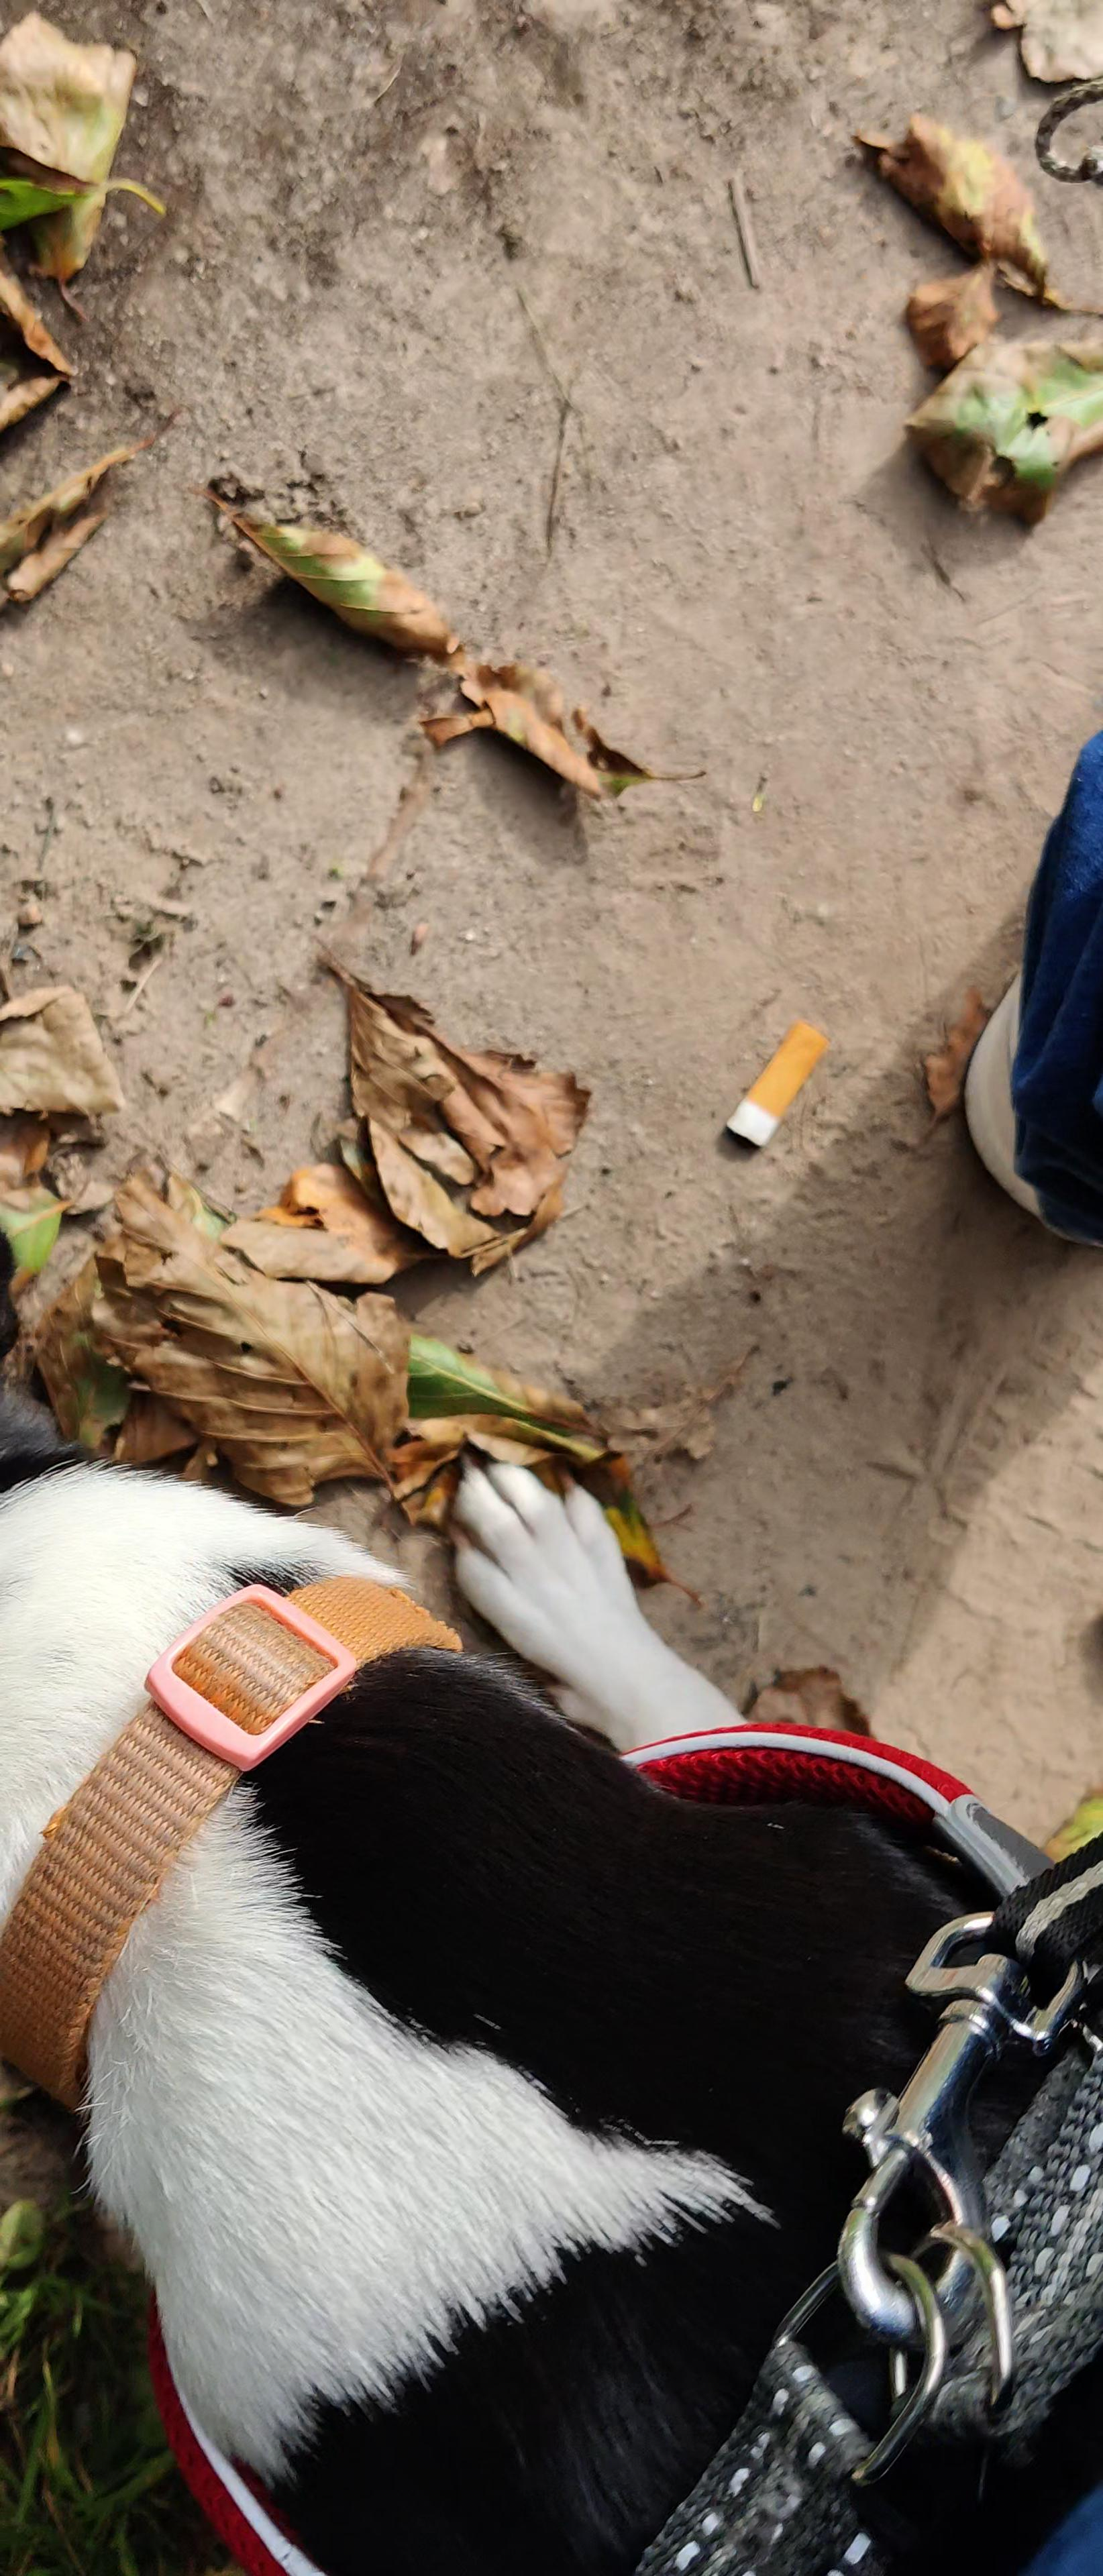Dog: (0, 1429, 1103, 2576)
